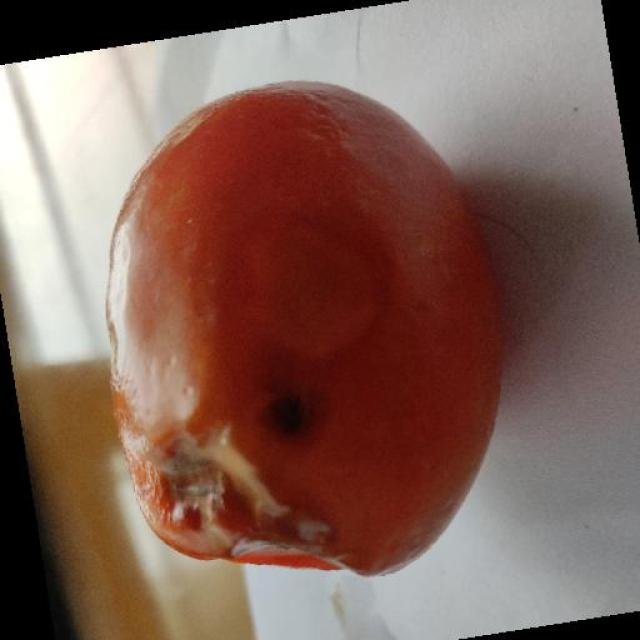Stale_tomato: (39, 66, 544, 599)
